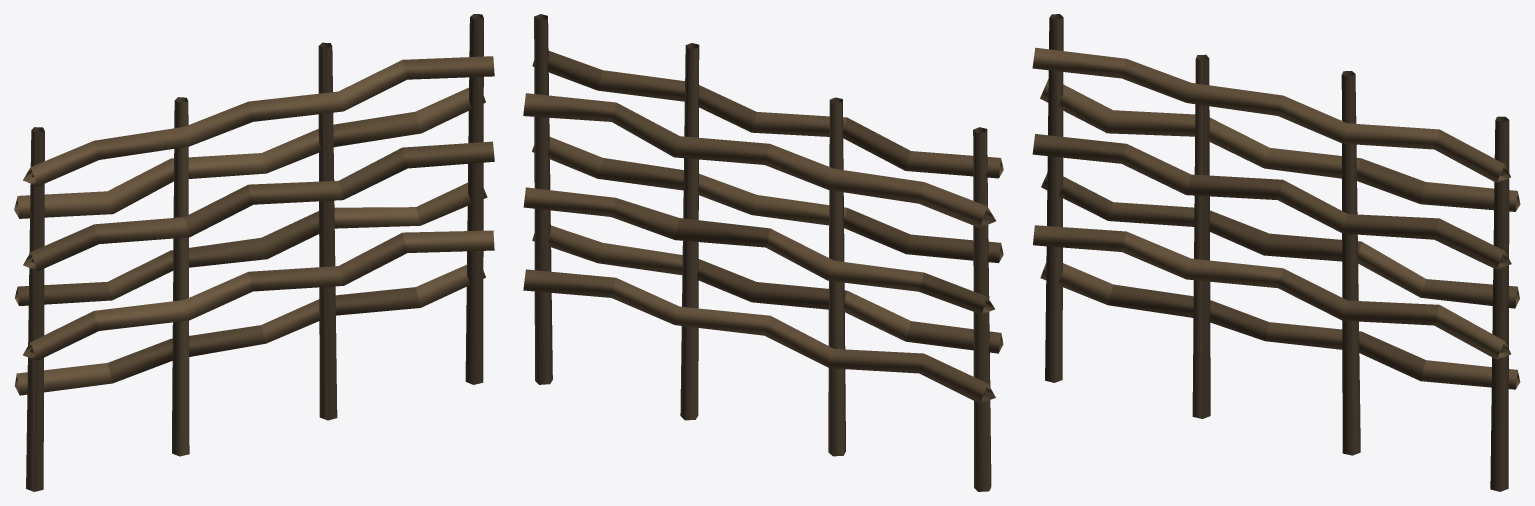
File: graticcio.glb
3 views of the same model, side by side, from view 1: azimuth 30°, elevation 25°; view 2: azimuth 150°, elevation 25°; view 3: azimuth 330°, elevation 25° (orthographic).
Visible parts, largest first — view 1: graticcio; view 2: graticcio; view 3: graticcio.
Part boxes in pixels (x1,y1,x2,y2): graticcio: (14,14,494,491); graticcio: (523,14,1003,491); graticcio: (1032,14,1520,491).
Size of the model in its own units: 2.03 by 1.54 by 0.1893.
